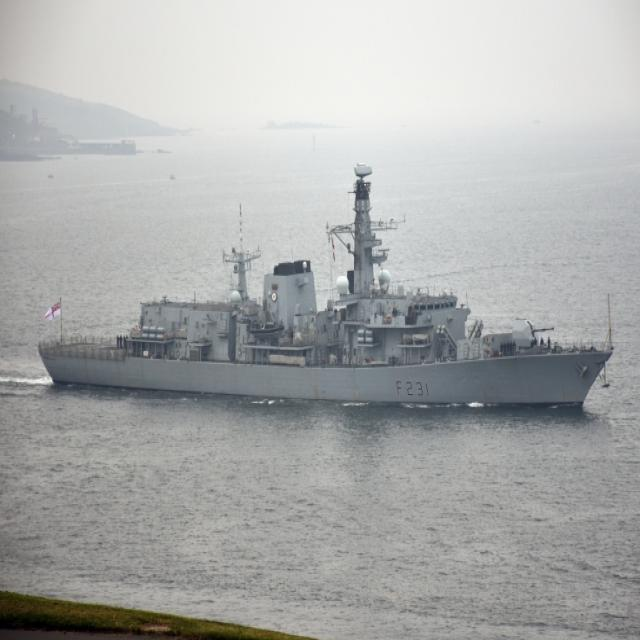Fragata: (34, 158, 622, 422)
